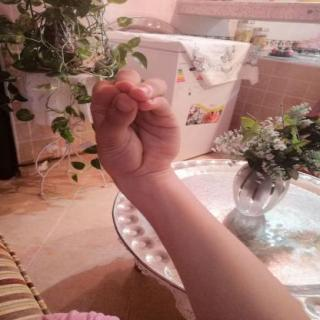HA: (73, 60, 197, 188)
